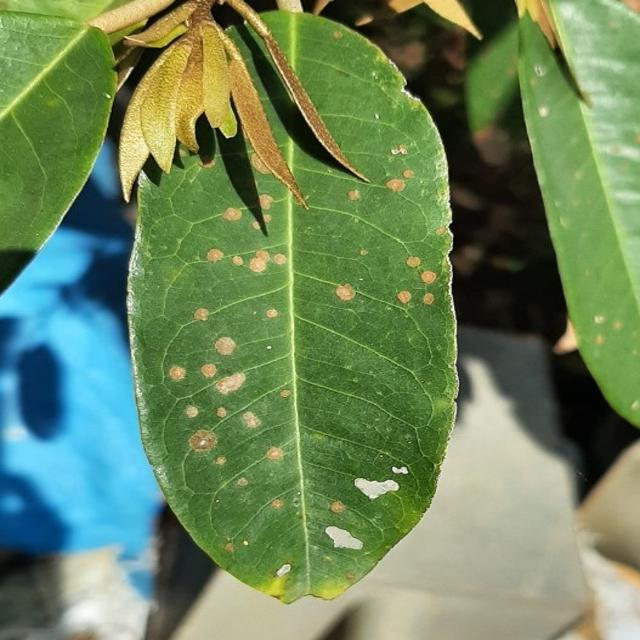Algal Leaf Spot: (123, 6, 459, 604)
